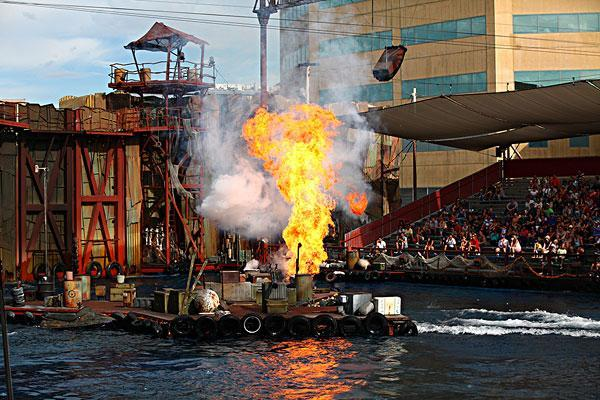fire: (239, 99, 351, 276)
